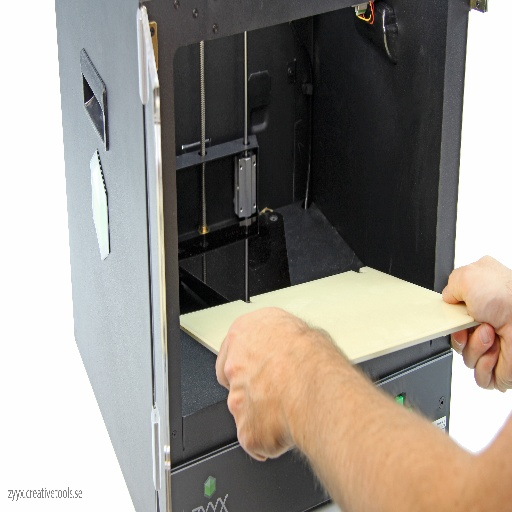hand: (213, 306, 316, 464), (435, 258, 506, 398)
